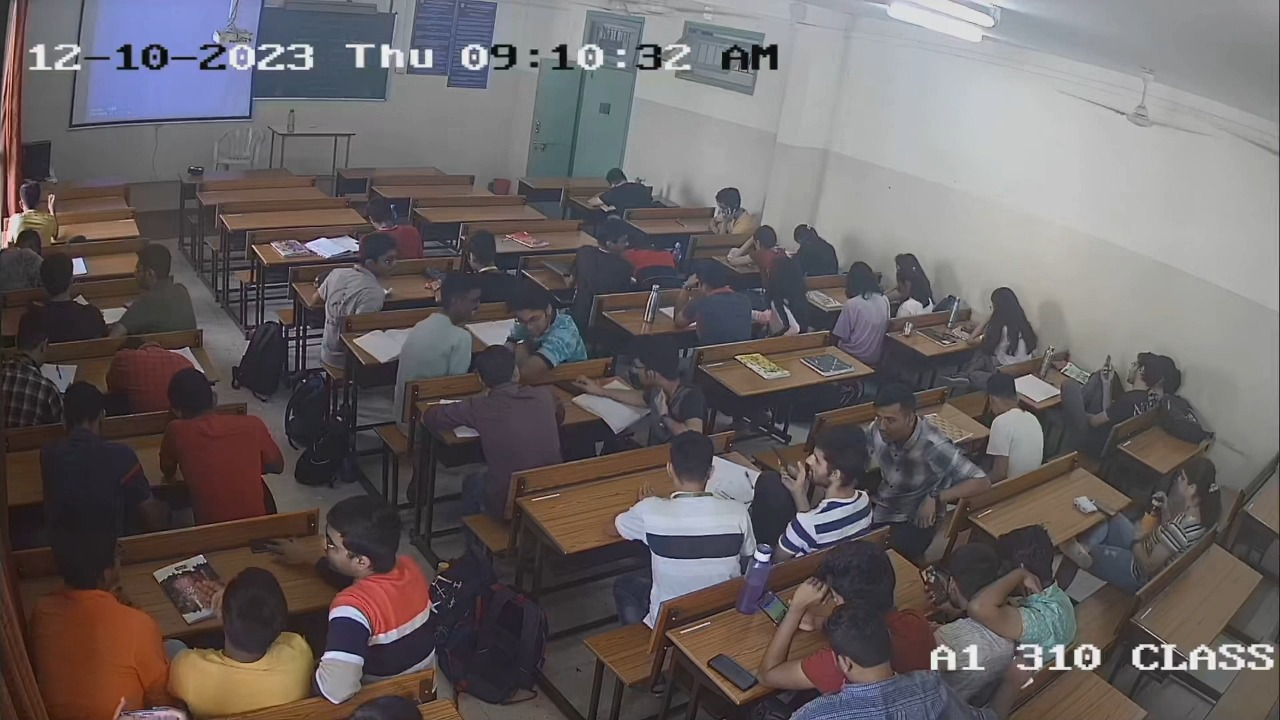cell-phones: (707, 649, 760, 698), (552, 375, 587, 401), (244, 535, 280, 557)
person: (298, 489, 437, 699), (780, 605, 955, 720), (608, 337, 704, 438)
